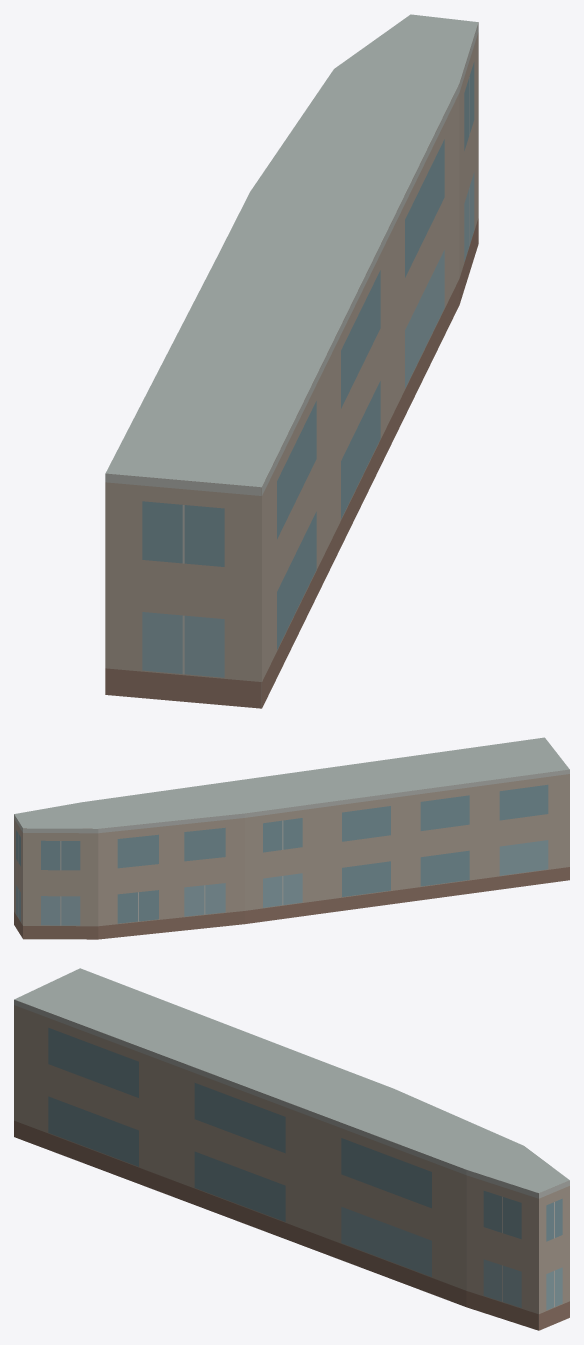
File: survey-upis-32775706.glb
The picture shows the model from 3 angles, top to bottom: view 1: azimuth 30°, elevation 25°; view 2: azimuth 150°, elevation 25°; view 3: azimuth 270°, elevation 25°; orthographic projection. The views are drawn at different scales.
Parts seen in each view (by area): view 1: survey-upis-32775706.tmp; view 2: survey-upis-32775706.tmp; view 3: survey-upis-32775706.tmp.
Boxes of the visible parts, x1,y1,x2,y2 form: survey-upis-32775706.tmp: (105, 14, 478, 708); survey-upis-32775706.tmp: (14, 737, 569, 939); survey-upis-32775706.tmp: (14, 968, 569, 1330).
Size of the model in its own units: 21.42 by 6.1 by 22.36.
